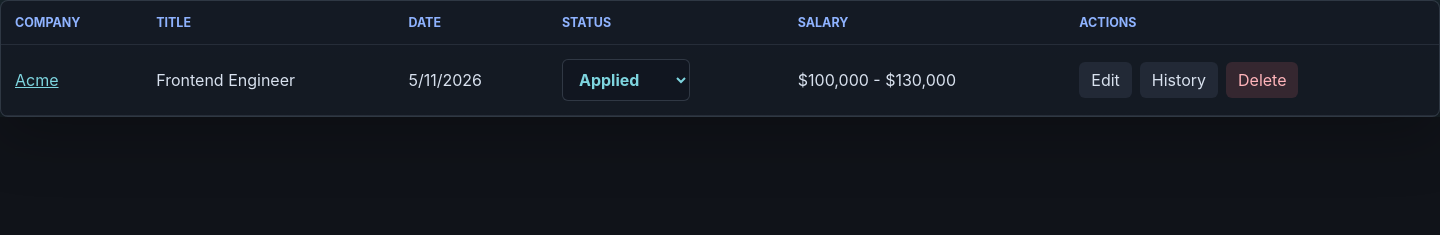
toggles status history
Click the button "History" at (1179, 80), box 1140,62 -> 1218,98
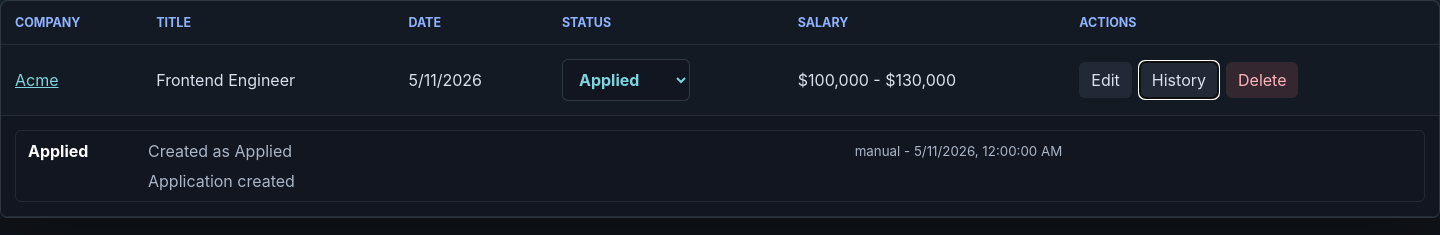
Expected: the text "Created as Applied" is shown, 148,141 -> 292,161
Expected: the text "Application created" is shown, 148,171 -> 295,191
